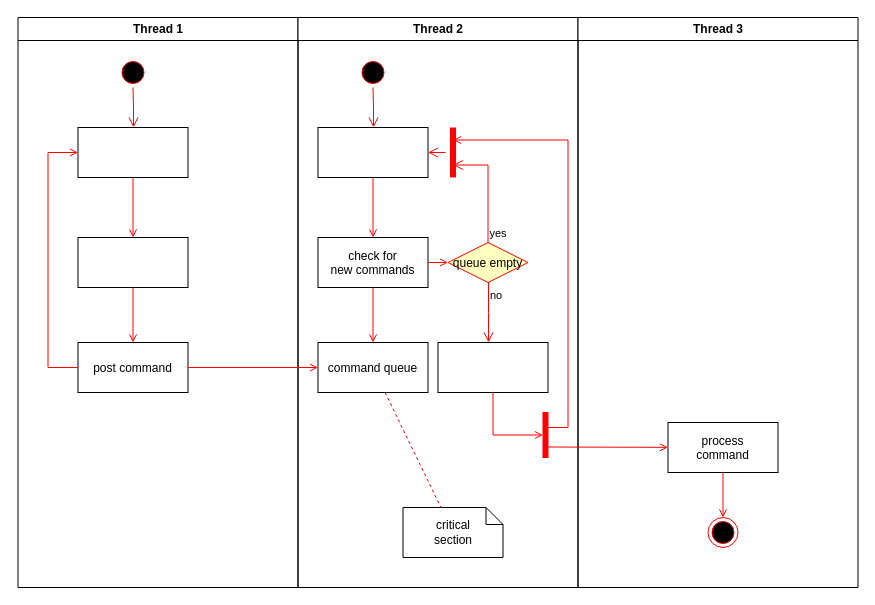
Image size: 875x605. Some labels were removed from this diagram. Here are the shapes that lost their labels. From the top down, the centre of each, then its label:
the point at 132,152: idle
the point at 372,152: gfdgdf
the point at 132,262: user action
the point at 492,367: dispatch command worker thread
